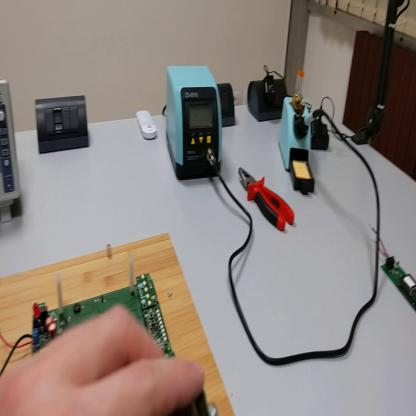electric screwdriver battery: (314, 108, 332, 152)
hand: (3, 305, 203, 415)
high voltage board: (369, 226, 416, 312)
low voltage board: (3, 258, 175, 375)
oscilloscope: (1, 81, 22, 220)
pliers: (240, 167, 296, 233), (172, 393, 220, 416)
socket: (246, 77, 287, 122), (218, 84, 237, 128)
welder base: (280, 96, 316, 196)
welder probe tip: (293, 106, 328, 137)
welder station: (167, 65, 223, 181)
working area: (3, 233, 234, 414)
